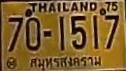0: (26, 17, 40, 50)
1: (92, 15, 98, 48), (59, 16, 64, 50)
5: (70, 15, 86, 48)
7: (8, 16, 23, 50), (104, 14, 118, 48)
SKM: (28, 51, 102, 71)
